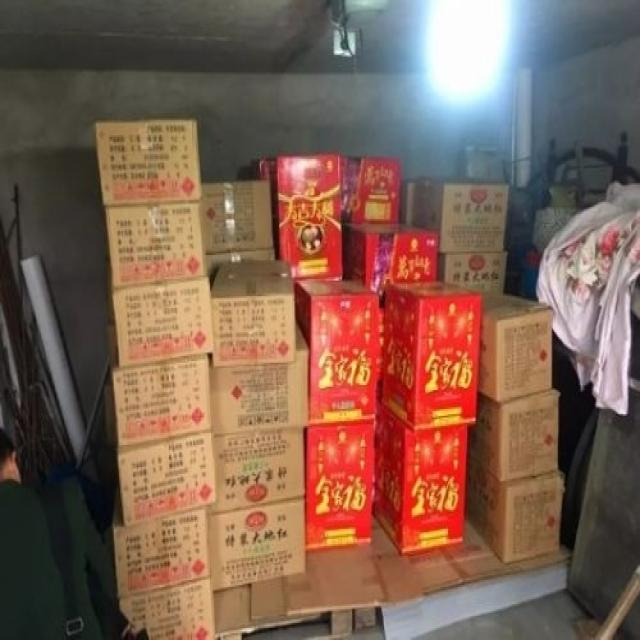Carton: (95, 120, 465, 602), (381, 277, 559, 563), (413, 178, 508, 253)
